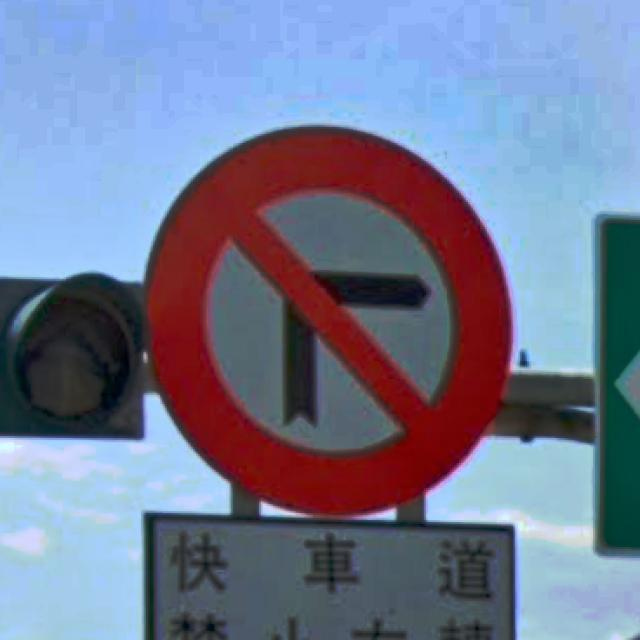noturnright: (139, 120, 515, 516)
